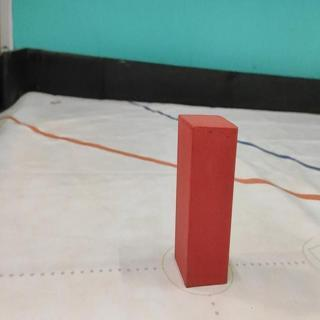redbox: (175, 113, 239, 289)
